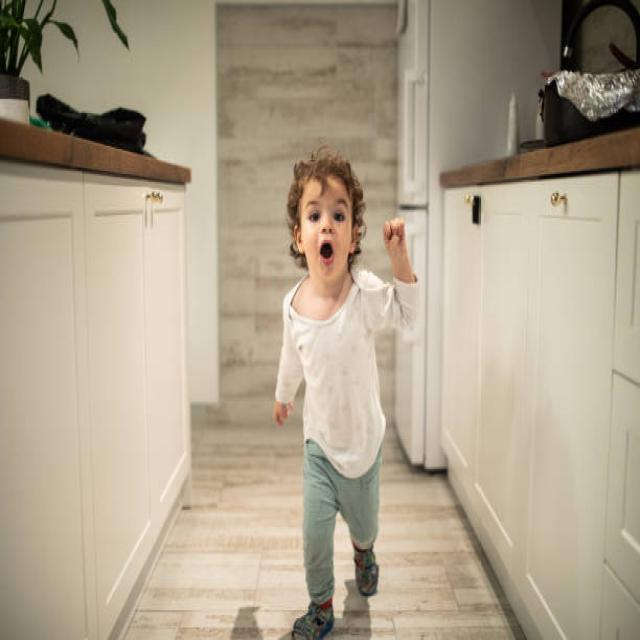Person: (273, 158, 419, 640)
